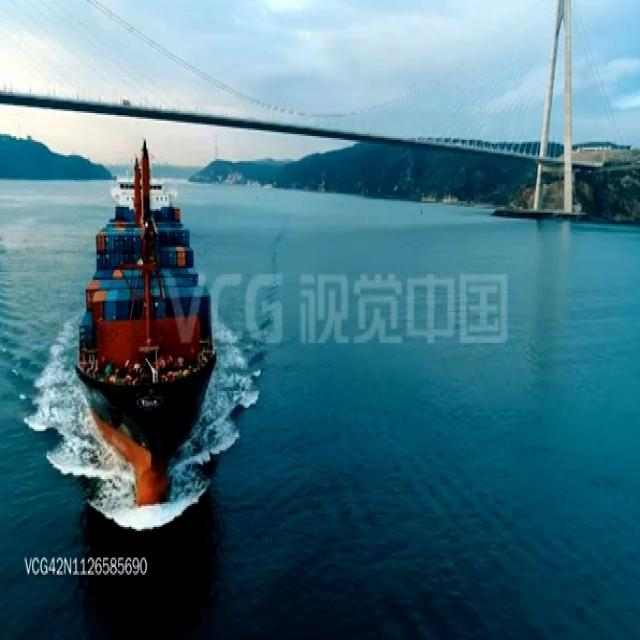cargoship: (79, 138, 219, 502)
